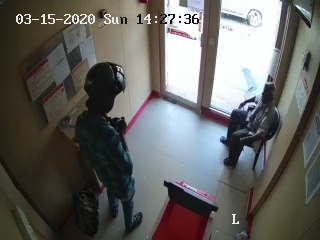helmet: (73, 62, 133, 112)
